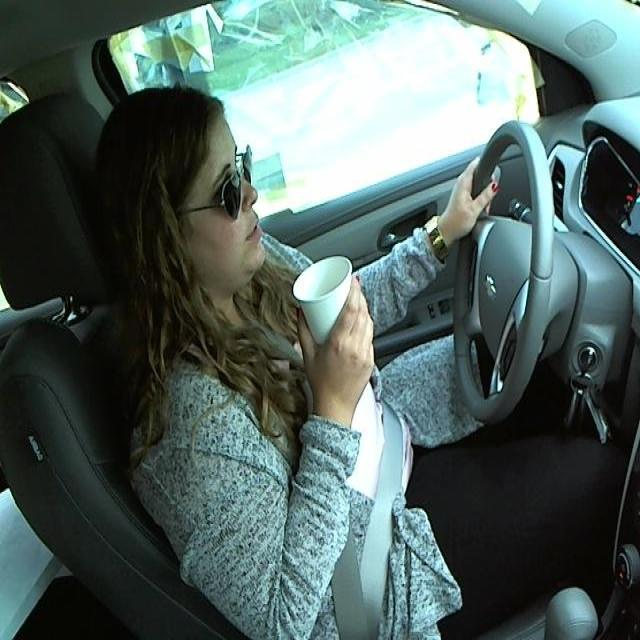Seatbelt: (294, 260, 352, 359)
